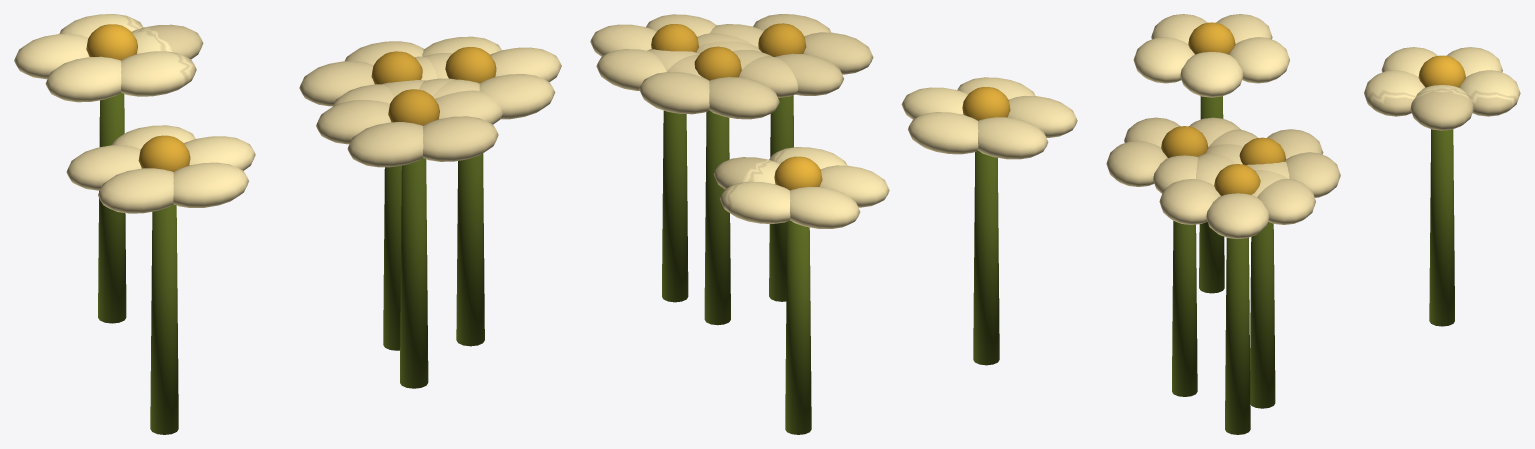
File: Foliage_3.fbx
3 views of the same model, side by side, from view 1: azimuth 30°, elevation 25°; view 2: azimuth 150°, elevation 25°; view 3: azimuth 270°, elevation 25° (orthographic). The views are drawn at different scales.
Parts seen in each view (by area): view 1: Foliage_3; view 2: Foliage_3; view 3: Foliage_3.
Part boxes in pixels (bbox=[...]): Foliage_3: bbox=[14, 14, 561, 434]; Foliage_3: bbox=[590, 14, 1077, 434]; Foliage_3: bbox=[1106, 14, 1520, 434].
Size of the model in its own units: 47.25 by 27 by 38.48.
1 material, 1 textured.
